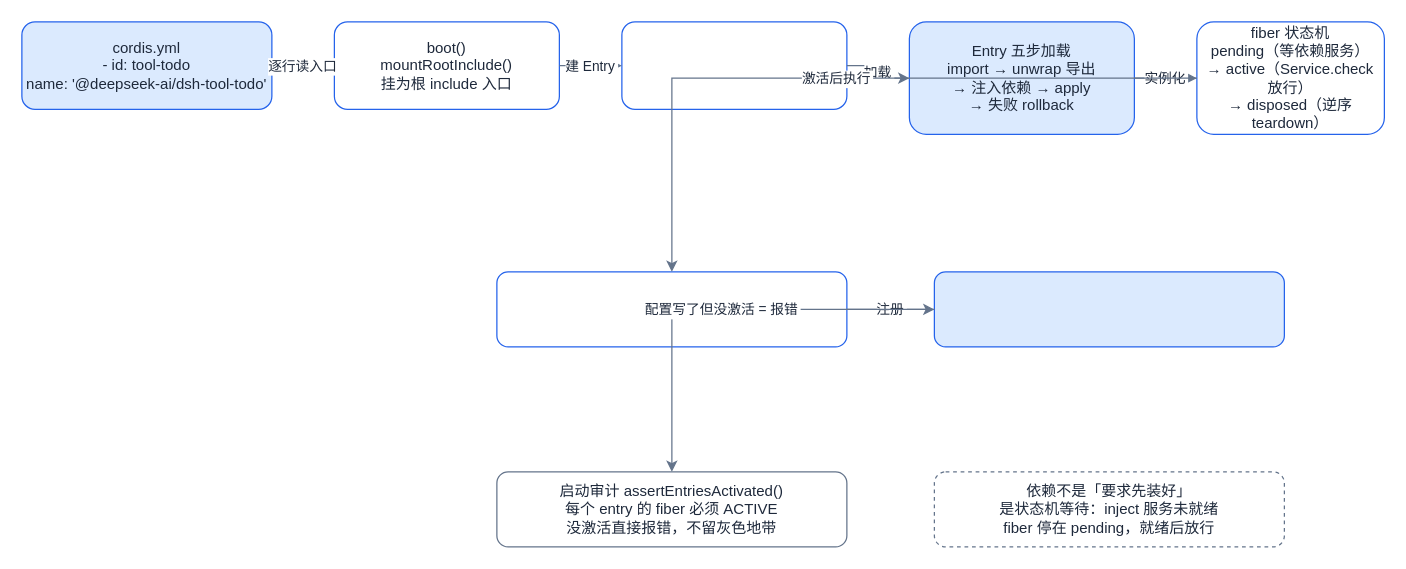
Some shapes in this 1406 by 569 pixel diagram are drawn without their labels. Here are the shapes that lost their labels. From the top down, the centre of each, then its label:
the point at 734,65: Loader（EntryTree） ctx.loader 服务 vendor/loader/src/index.ts:65
the point at 671,309: apply(ctx, config) 同步注册一切 挂服务 / 挂工具 / 监听事件
the point at 1108,309: ctx.tools.register(defineTool(...)) 工具注册表 → 模型工具列表 core/tools/src/schema.ts:545
